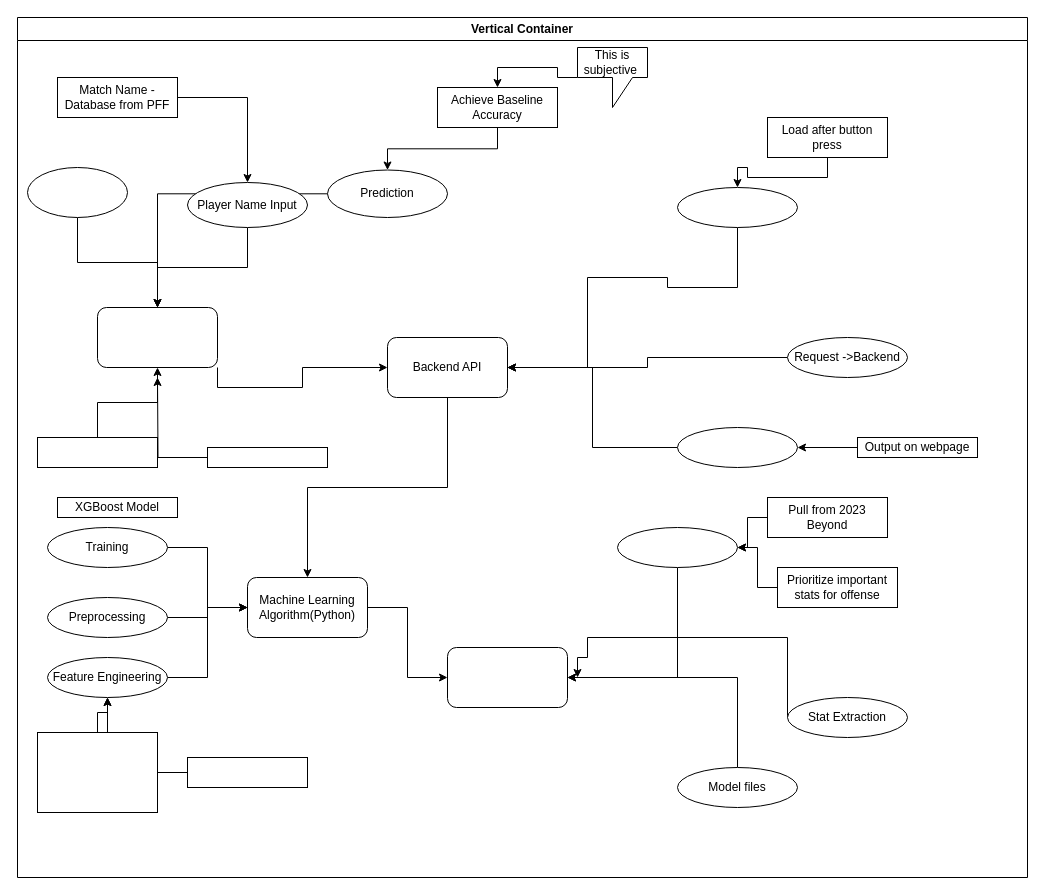
This 1045x895 diagram has some shape labels left out. The shapes that lost their labels are listed below. From the top down, each one's centre as x and y in pixels, then its label:
At point 77,192: "Welcome Page".
At point 737,207: "API Request".
At point 157,337: "Front End(UI)".
At point 97,452: "Modern day player graphics/photos".
At point 267,457: "Links".
At point 737,447: "Format Response".
At point 677,547: "PFF Data".
At point 507,677: "Data Pipeline".
At point 97,772: "Awards: Ex: Rookie of the year Defense Player of the year etc.".
At point 247,772: "Offense 1st, Defense 2nd".
